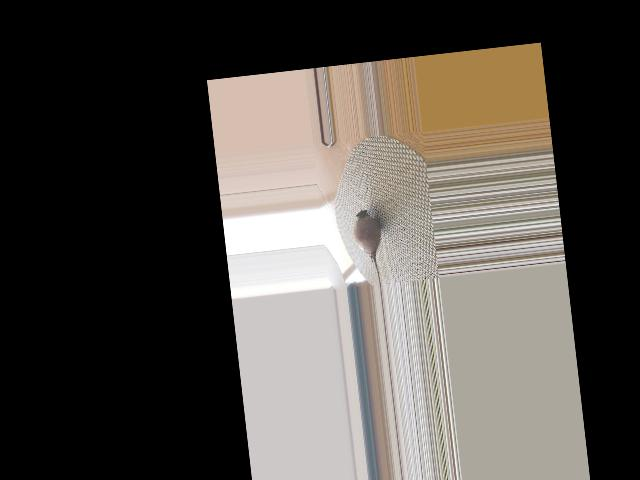beet: (350, 208, 386, 286)
